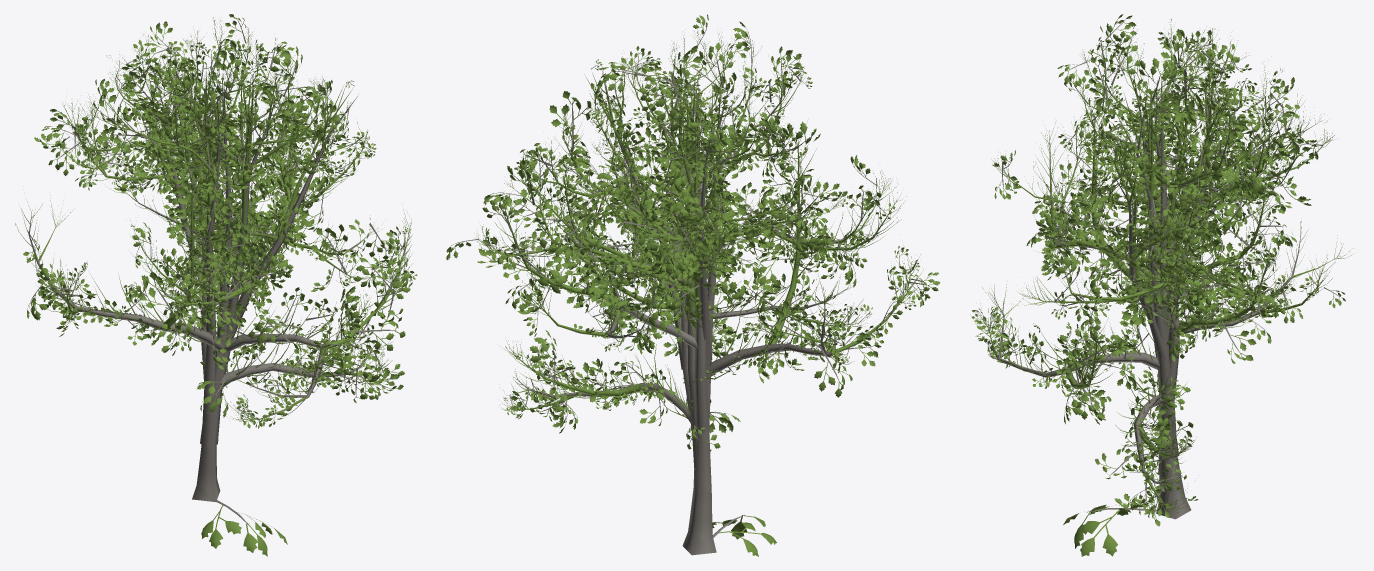
Rendered from tree01.glb.
The picture shows the model from 3 angles, left to right: view 1: azimuth 30°, elevation 25°; view 2: azimuth 150°, elevation 25°; view 3: azimuth 270°, elevation 25°; orthographic projection. The views are drawn at different scales.
Parts seen in each view (by area): view 1: tree, tree.001, leaf; view 2: tree, tree.001, leaf; view 3: tree, tree.001, leaf (×2).
Boxes of the visible parts, <box> form: tree: <box>15,17,411,421</box>; tree.001: <box>28,73,388,501</box>; leaf: <box>201,498,287,556</box>; tree: <box>476,28,923,417</box>; tree.001: <box>514,66,847,555</box>; leaf: <box>712,515,776,556</box>; tree: <box>973,18,1354,513</box>; tree.001: <box>992,65,1301,519</box>; leaf (×2): <box>1063,70,1203,556</box>.
Size of the model in its own units: 13.41 by 16.81 by 11.6.
